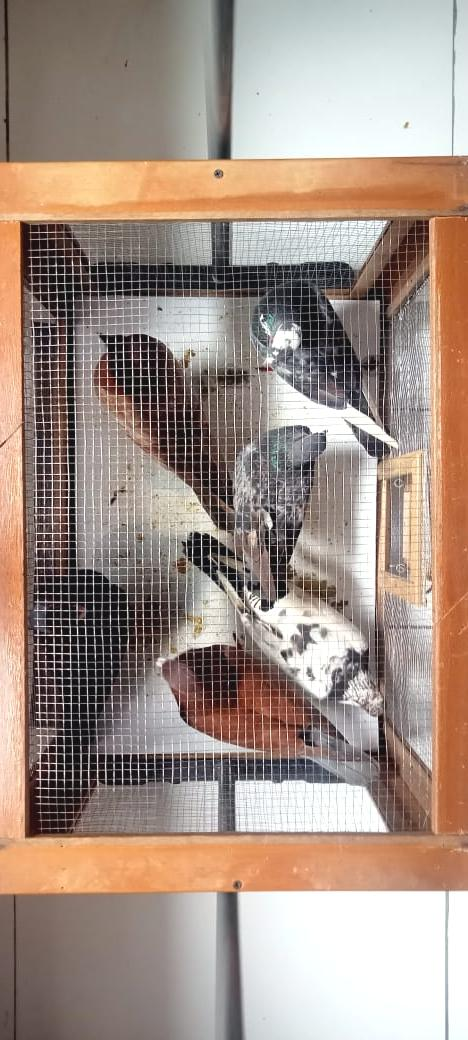Merpati: (183, 534, 387, 719), (152, 644, 379, 788), (93, 335, 235, 532), (248, 279, 399, 456), (29, 571, 134, 744), (233, 427, 327, 611)
